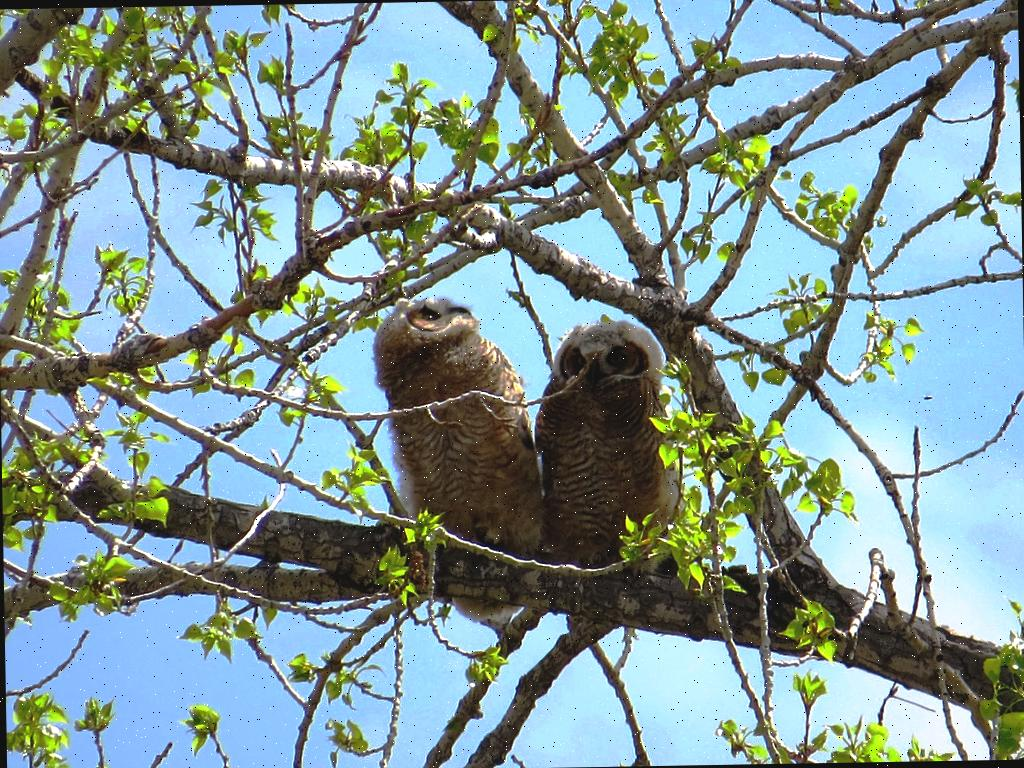Owl: (366, 296, 550, 634), (530, 308, 680, 576)
